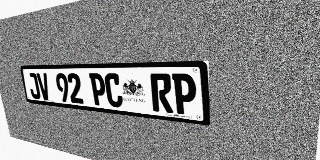2: (67, 73, 84, 104)
9: (55, 73, 71, 102)
C: (104, 73, 124, 108)
J: (27, 73, 41, 99)
P: (172, 73, 197, 116), (89, 73, 107, 106)
R: (150, 73, 173, 113)
V: (36, 73, 51, 100)
